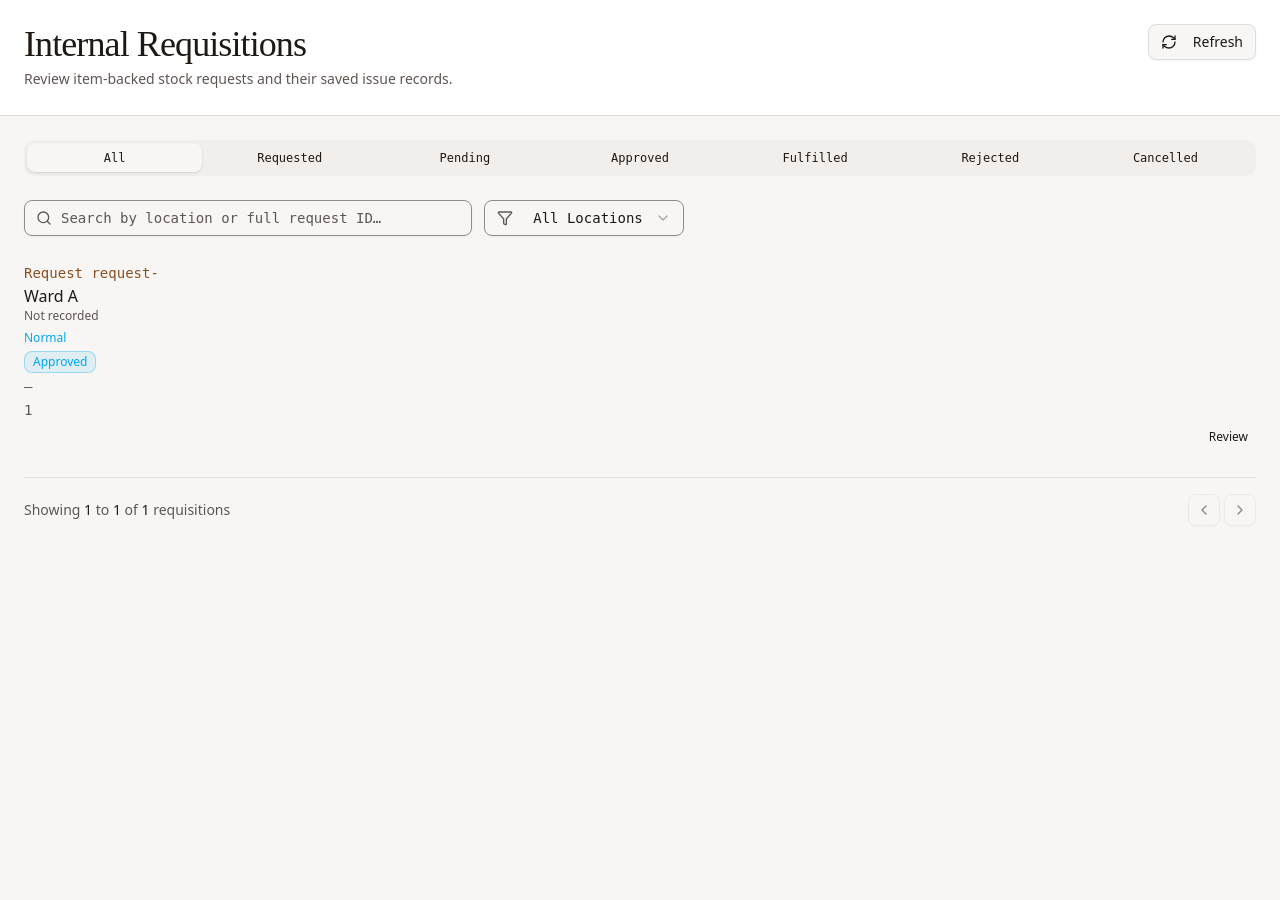
Scenario: standing orders through the active generated-client pages › opens a governed request from internal requisitions and resolves a lost issue response by review
Click the button "Review" at (1228, 437), box [1201, 421, 1256, 453]
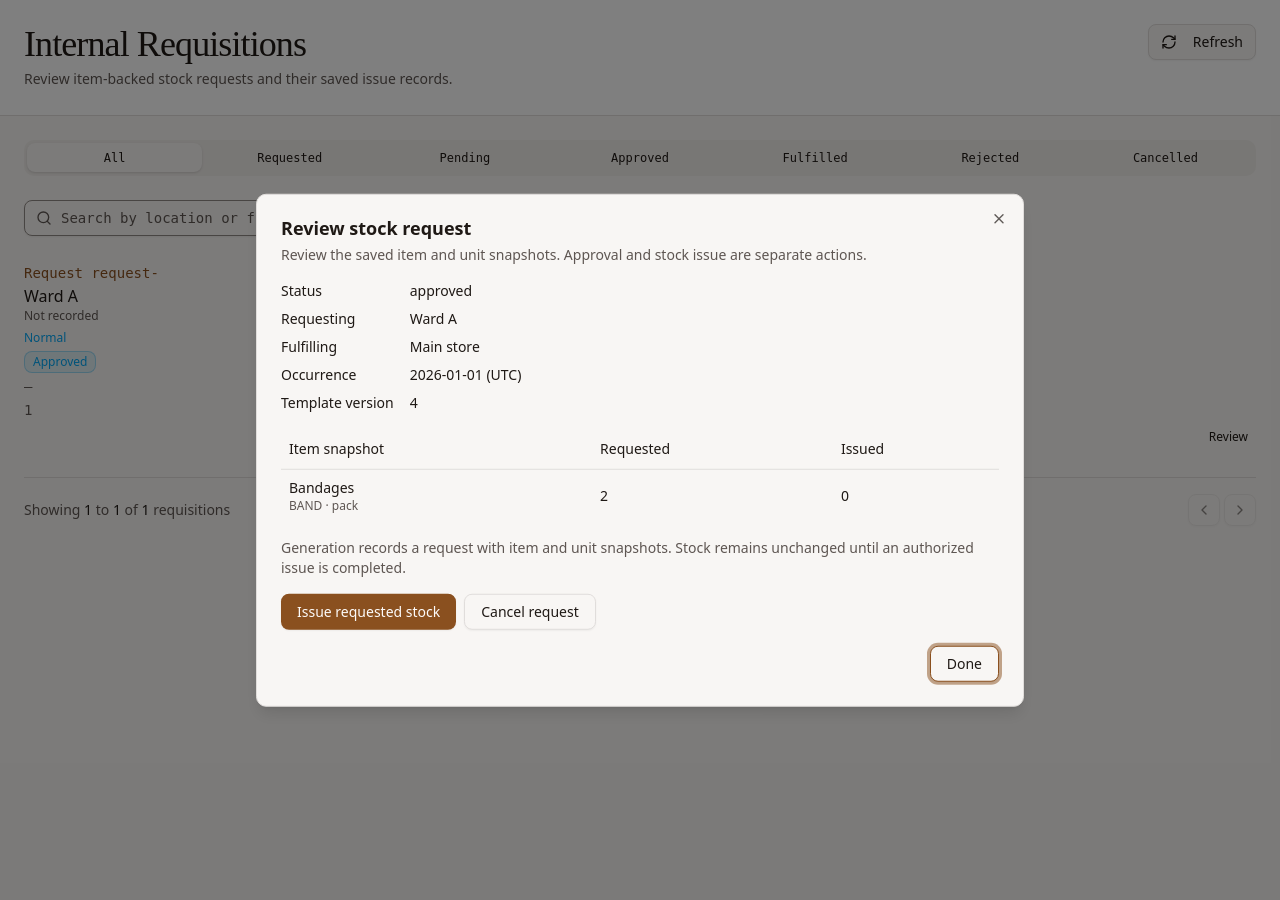
Click the button "Issue requested stock" at (369, 611), box [281, 593, 456, 629]
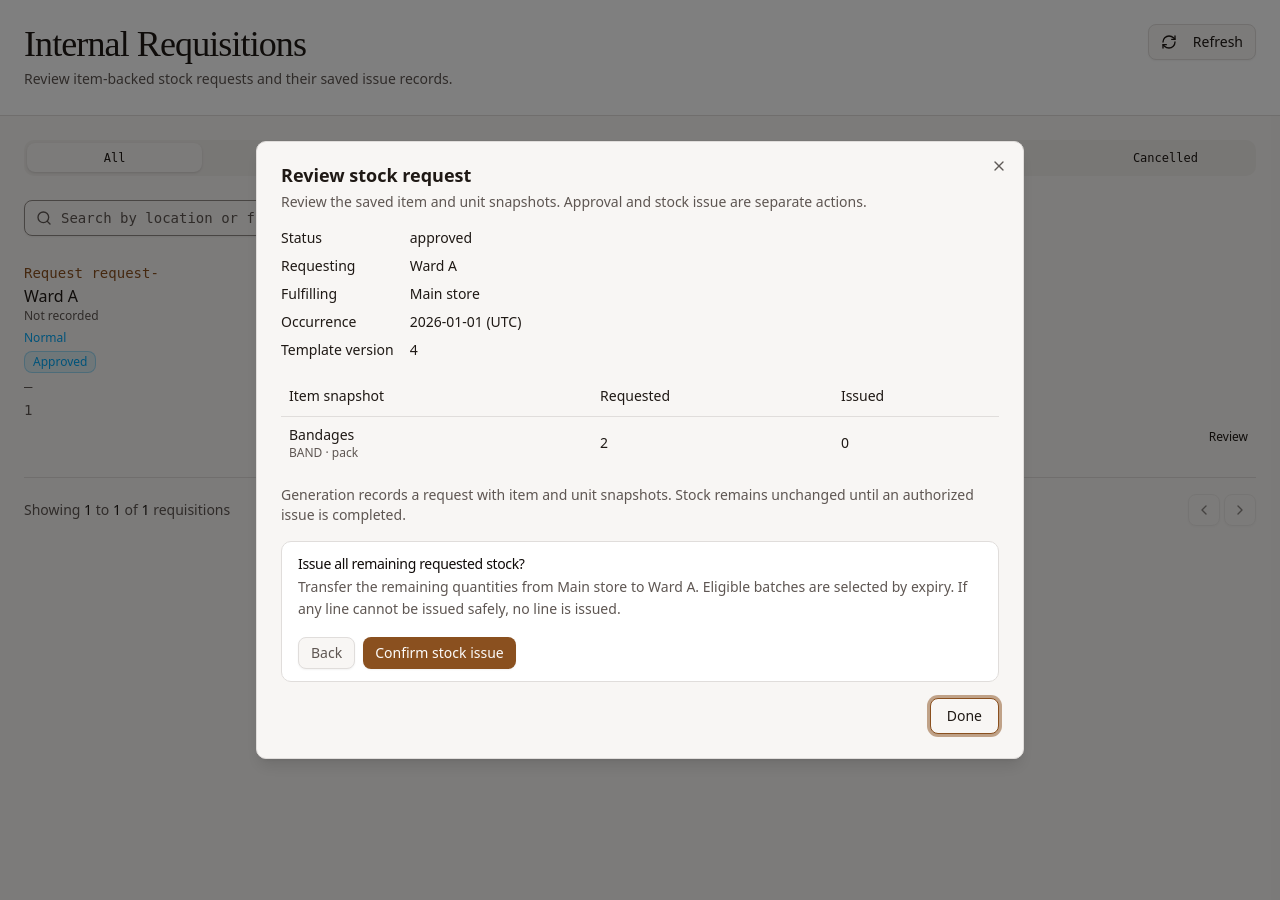
Click the button "Confirm stock issue" at (440, 653), box [363, 637, 516, 669]
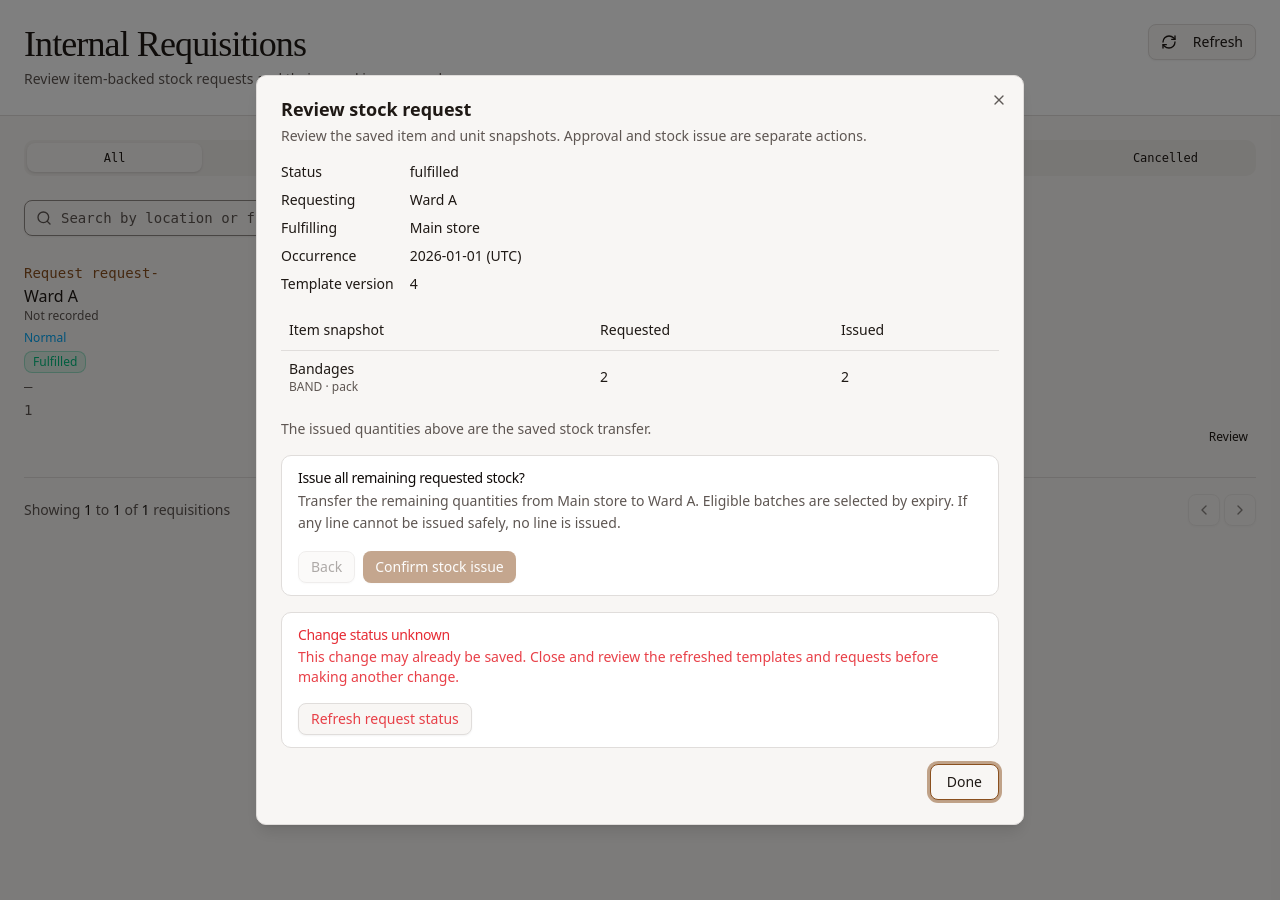
Result: the text "Change status unknown" is shown at [298, 625, 450, 644]
Result: the button "Confirm stock issue" is disabled at [363, 551, 516, 583]
Click the button "Refresh request status" at (385, 719), box [298, 703, 472, 735]
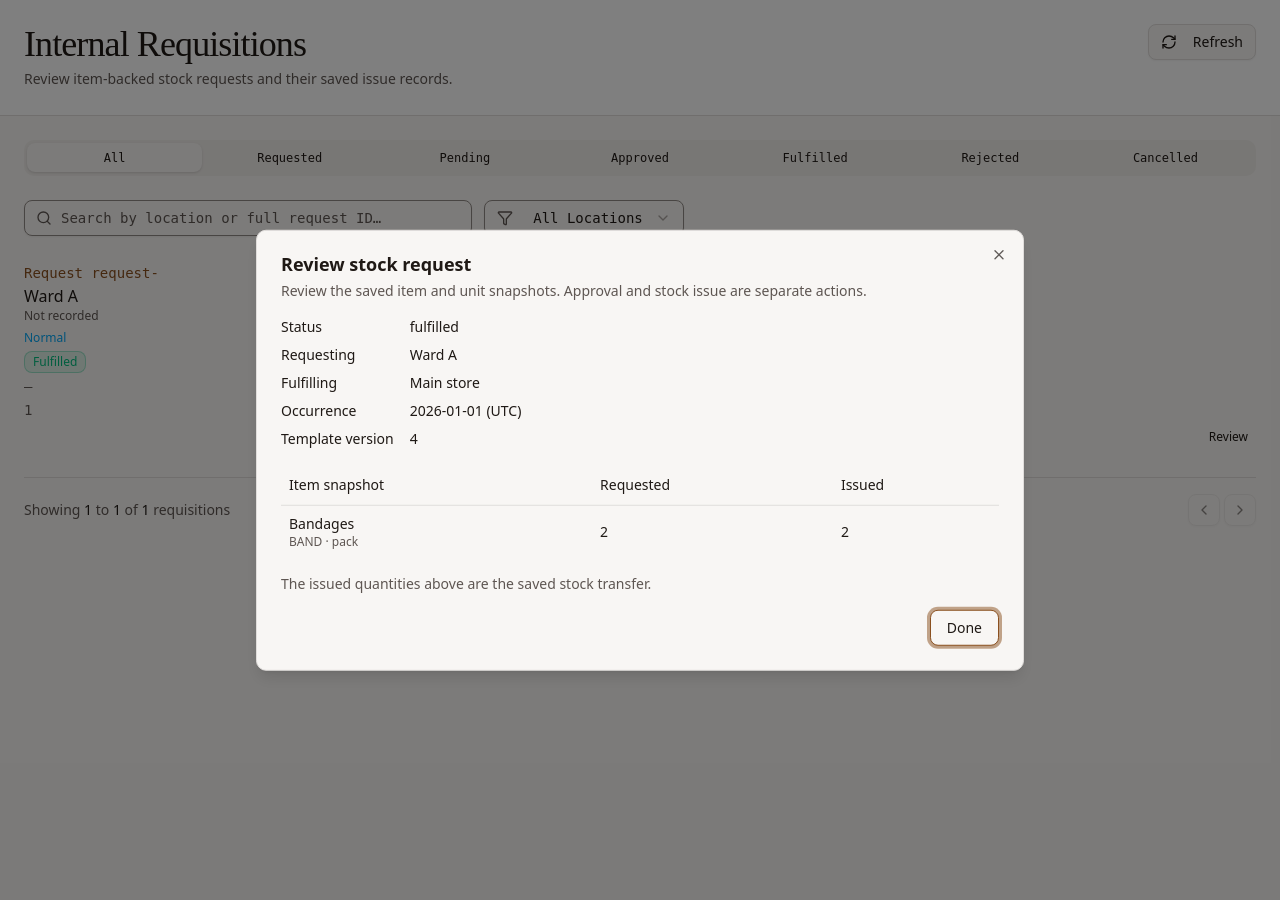
Result: the dialog shows "fulfilled" at [410, 317, 459, 336]
Result: the text "Change status unknown" is gone
